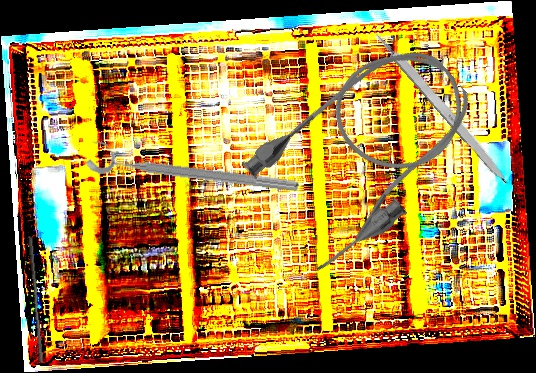Cannula: (231, 20, 502, 283)
Fixation Ring: (84, 137, 302, 198)
Pusher: (23, 235, 48, 364)
Scalpel Handle: (372, 27, 514, 188)
